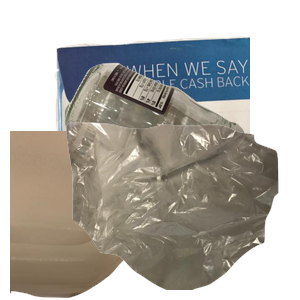glass: (62, 60, 300, 240)
paper: (52, 34, 292, 214)
plastic: (10, 131, 196, 300)
trash: (64, 120, 300, 300)
